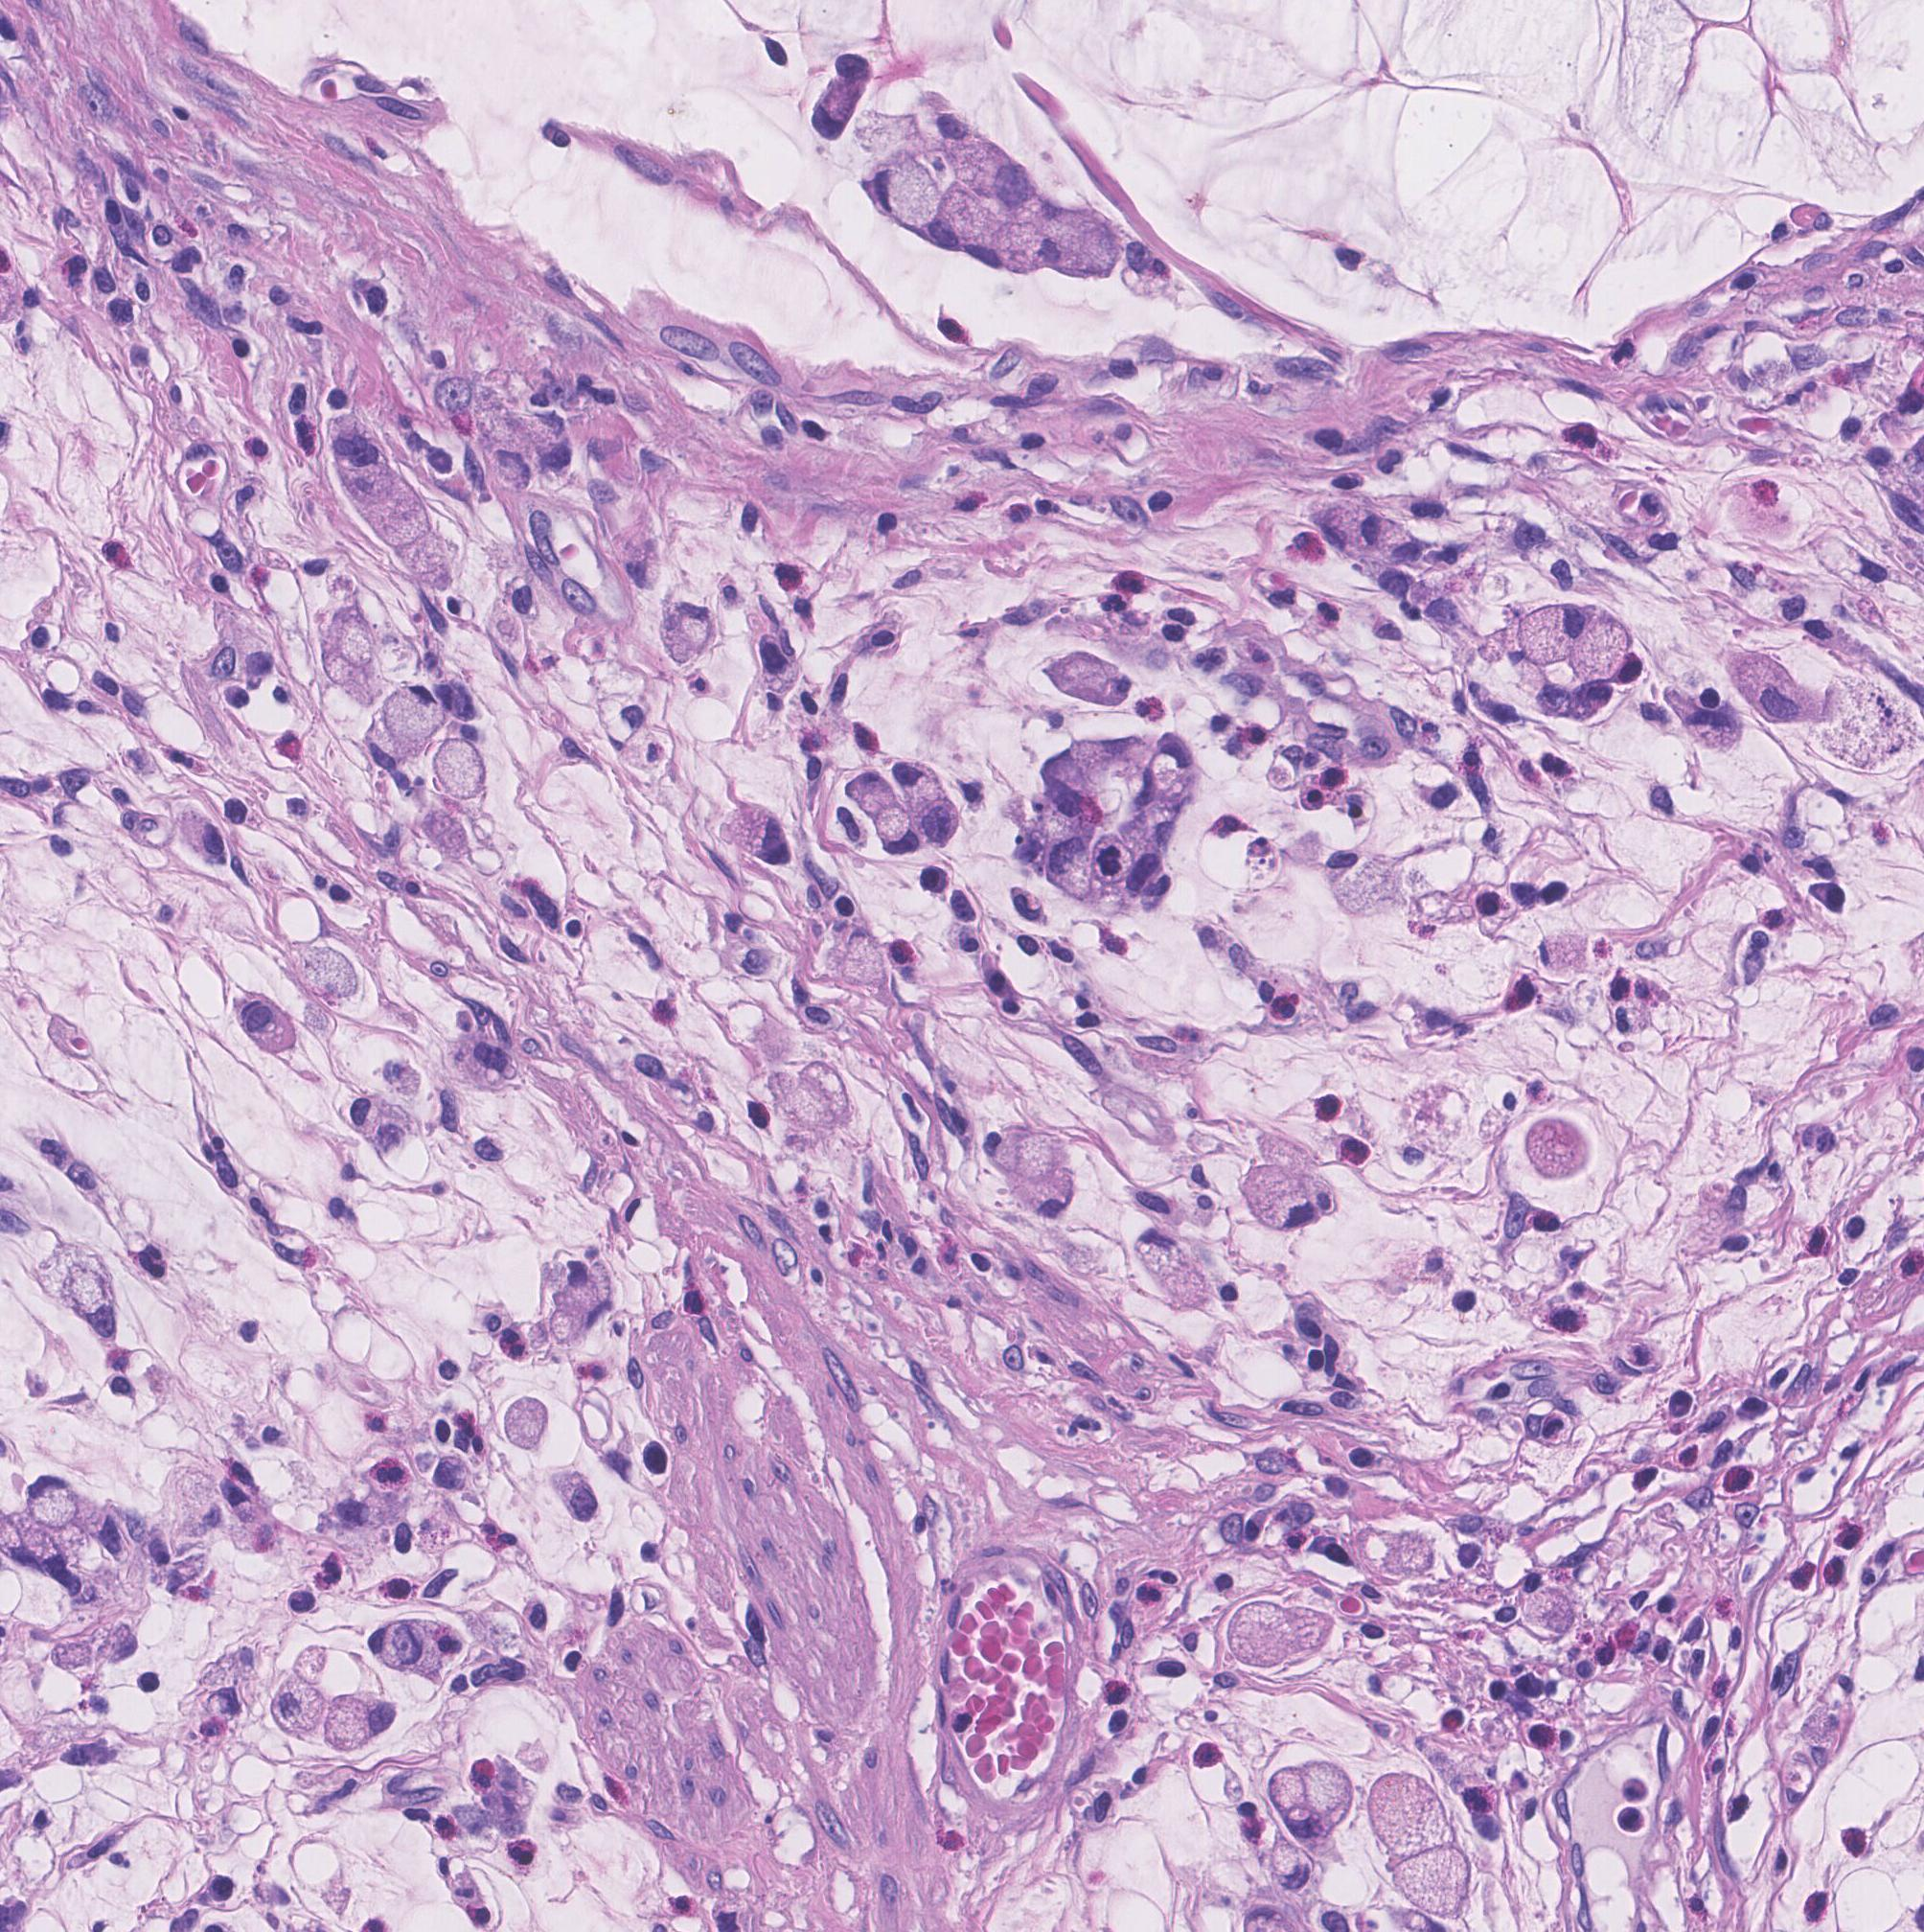ring_cell_cancer: (1365, 1763, 1464, 1858), (1235, 1149, 1344, 1234), (1265, 1759, 1358, 1844), (1135, 1227, 1221, 1313), (1732, 650, 1829, 723), (1401, 1835, 1478, 1925), (1043, 645, 1143, 709), (650, 591, 724, 668), (365, 679, 444, 751), (372, 1620, 465, 1680), (722, 797, 796, 871), (1513, 591, 1589, 663), (1040, 829, 1108, 906), (1572, 606, 1635, 689), (1010, 1155, 1084, 1225), (317, 1694, 402, 1750), (435, 733, 495, 811), (490, 1396, 560, 1458), (985, 1123, 1064, 1176), (840, 762, 902, 823), (548, 1468, 603, 1532), (893, 758, 957, 809), (872, 800, 925, 860), (916, 800, 969, 853)
